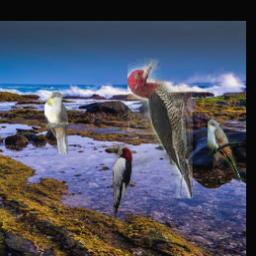Cuckoo: (208, 119, 243, 182), (44, 92, 70, 153)
Woodpecker: (128, 59, 193, 199), (113, 143, 132, 221)
